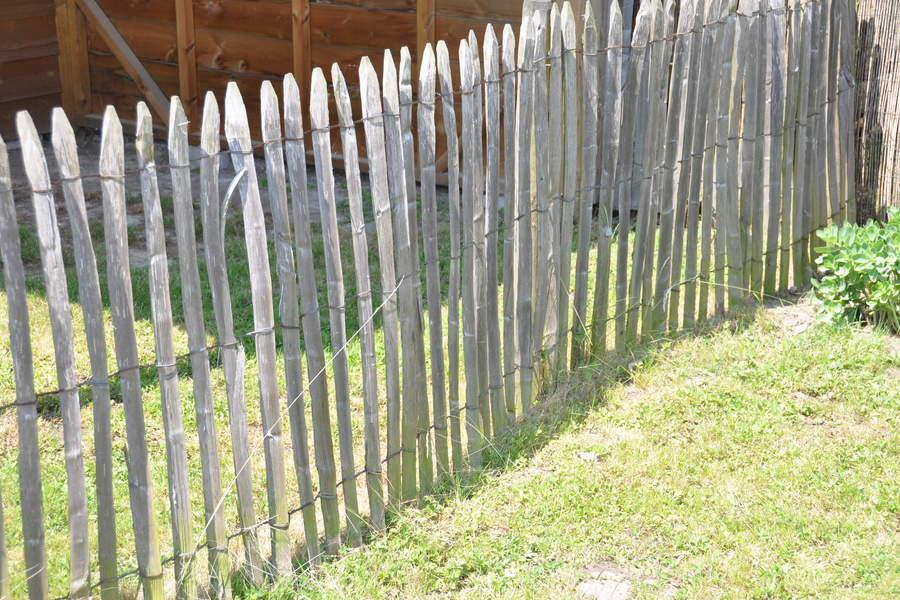obstacle: (227, 91, 900, 416)
